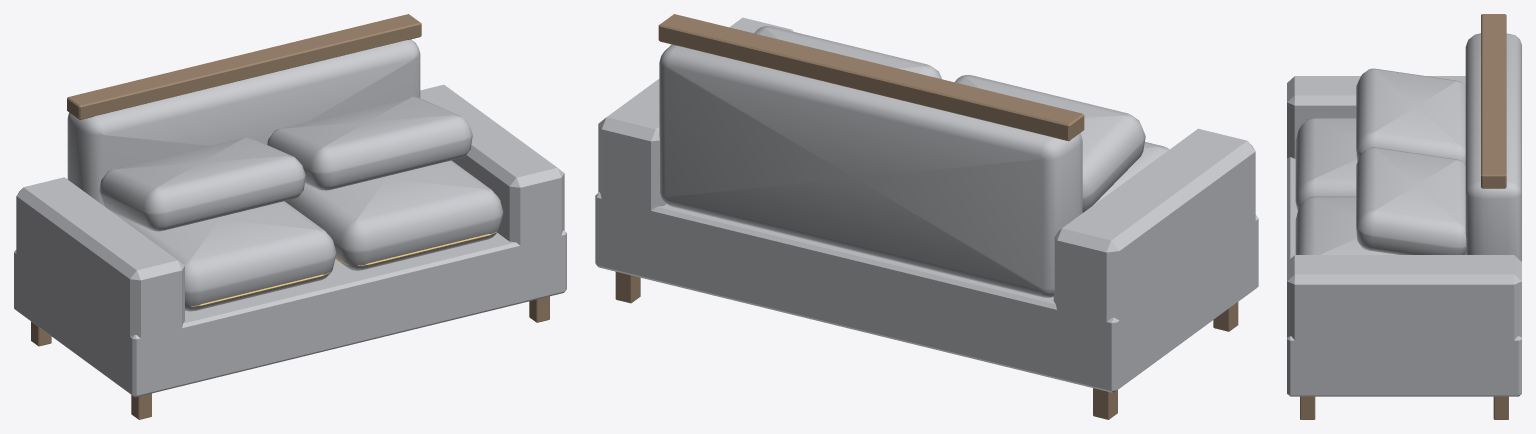
Rendered from bedroom-and-living-room-furniture-sofa-two-seat-904fa140.glb.
3 renders of one model, left to right at view 1: azimuth 30°, elevation 25°; view 2: azimuth 150°, elevation 25°; view 3: azimuth 270°, elevation 25°, orthographic. The views are drawn at different scales.
Parts seen in each view (by area): view 1: sofa-two-seat; view 2: sofa-two-seat; view 3: sofa-two-seat.
Part boxes in pixels (left/top/right/bottom): sofa-two-seat: left=14, top=14, right=566, bottom=419; sofa-two-seat: left=595, top=14, right=1258, bottom=419; sofa-two-seat: left=1287, top=14, right=1521, bottom=419.
Size of the model in its own units: 1.9 by 0.99 by 0.9199.
